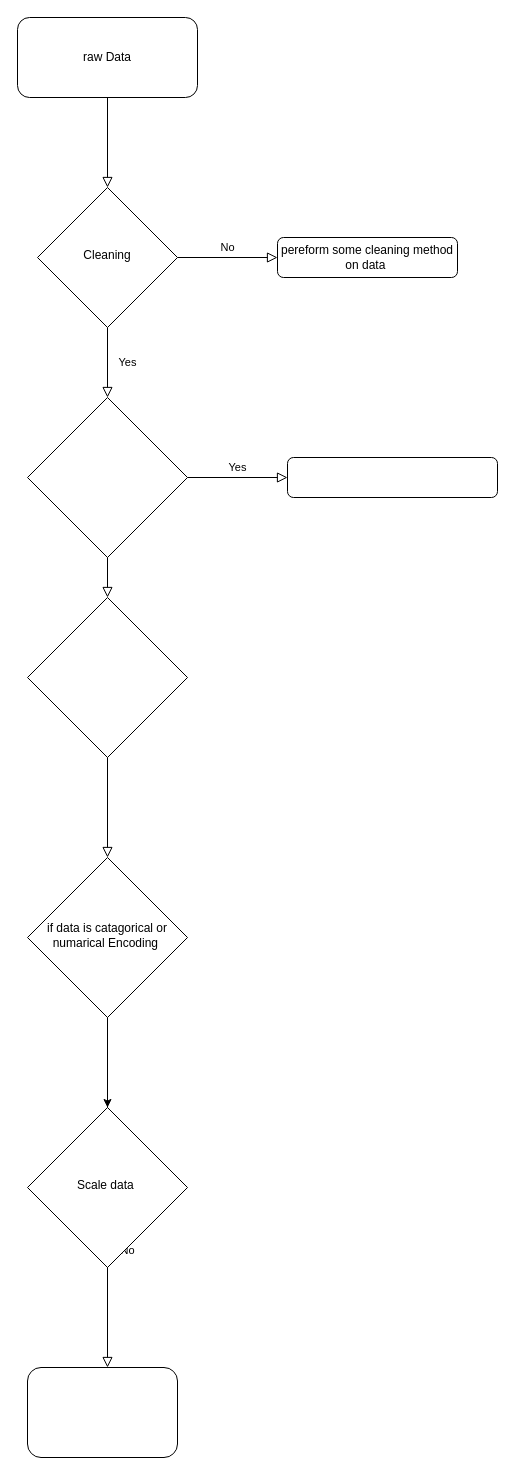
The diagram is 515 pixels wide and 1475 high, and some of its shapes have lost their labels. The shapes that lost their labels are listed below. From the top down, each one's box as (x1, y1, x2, y2) in pixels, then its label:
(26, 396, 188, 558): EDA(understand distribution)
(26, 596, 188, 758): Feature Tansforme using some method on data
(26, 1366, 178, 1458): Add Model (logistic regression)
